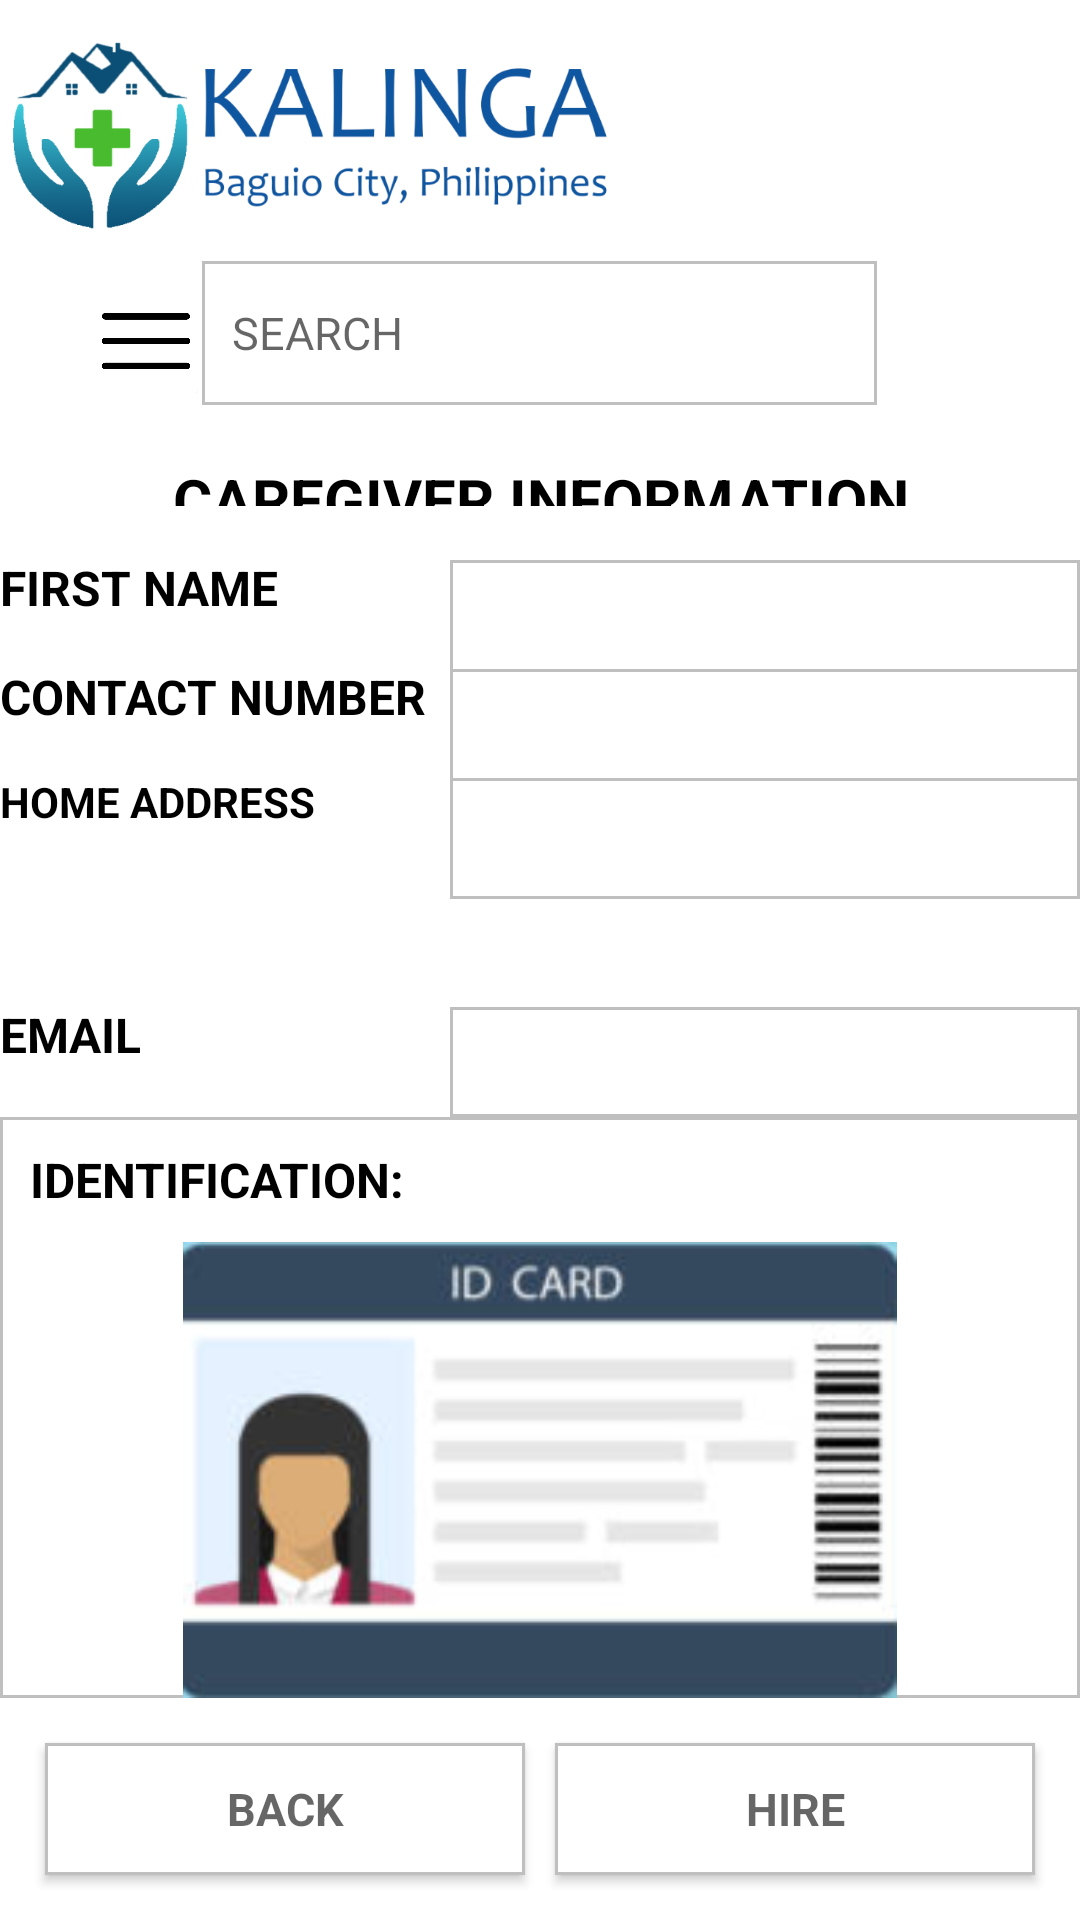

Point at icon controls on the screen. Image size 1080 x 1920, points as point (x, y).
burger: point (146, 341)
